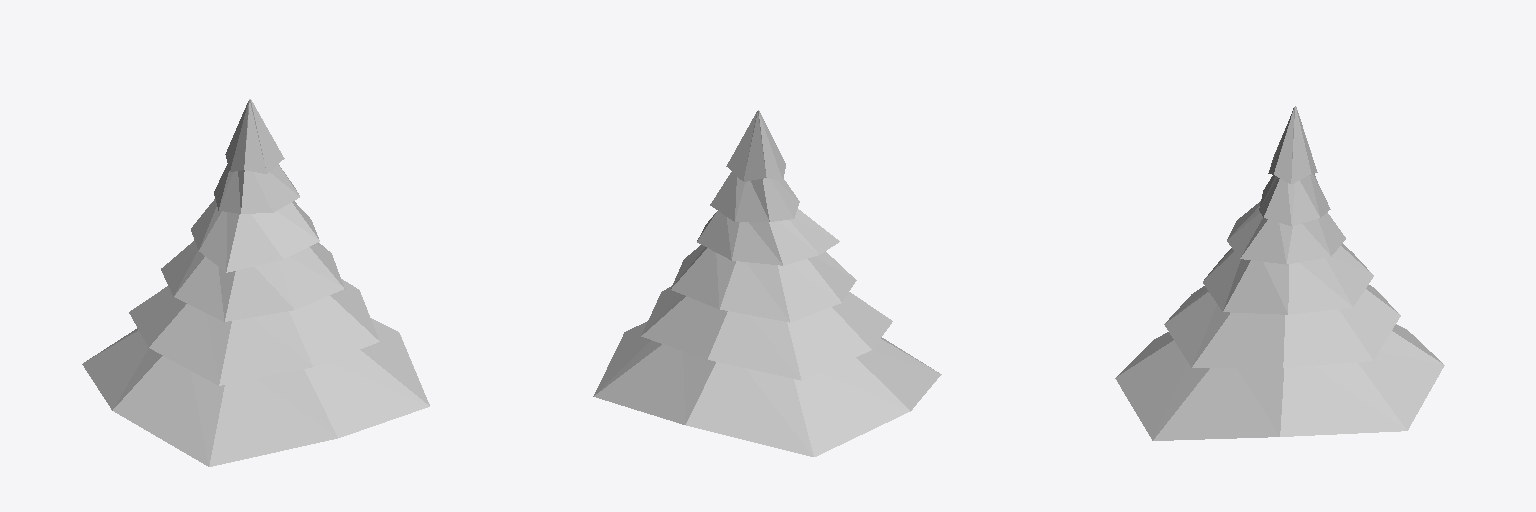
File: tree2.obj
The picture shows the model from 3 angles: view 1: azimuth 30°, elevation 25°; view 2: azimuth 150°, elevation 25°; view 3: azimuth 270°, elevation 25°; orthographic projection.
Parts seen in each view (by area): view 1: Body_bGeometry; view 2: Body_bGeometry; view 3: Body_bGeometry.
Part boxes in pixels (bbox=[...]): Body_bGeometry: bbox=[82, 99, 429, 466]; Body_bGeometry: bbox=[593, 110, 941, 456]; Body_bGeometry: bbox=[1115, 106, 1444, 440].
Size of the model in its own units: 4.77 by 4.79 by 4.75.